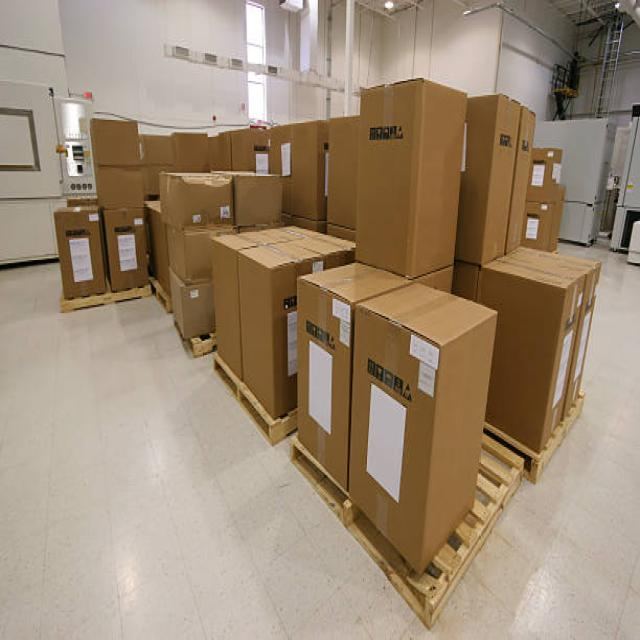Wooden-Pallets: (281, 438, 522, 637), (204, 348, 279, 457), (55, 272, 151, 323)
